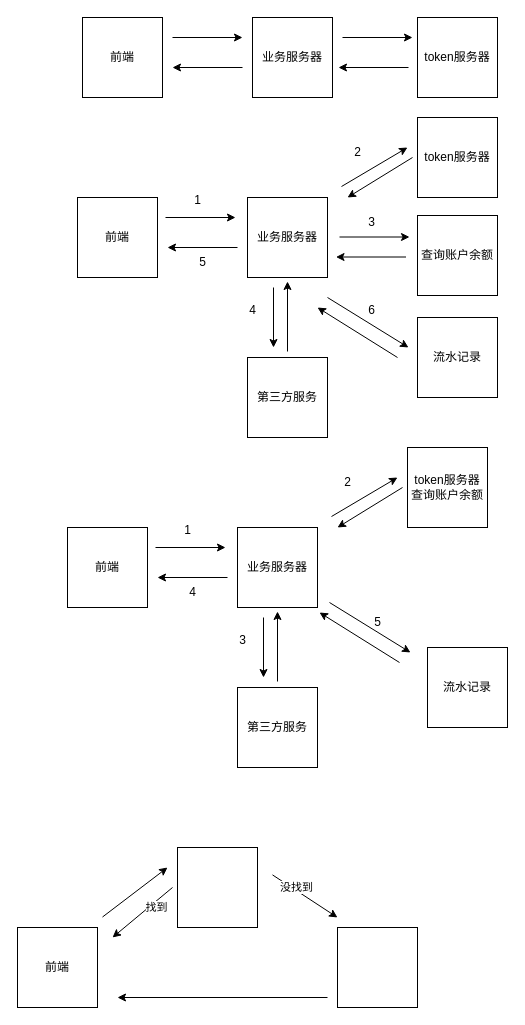
Some shapes in this 525 by 1025 pixel diagram are drawn without their labels. Each missing label, with the centre of its shape:
"微信表" goes at [377,967].
"用户表" goes at [217,887].
